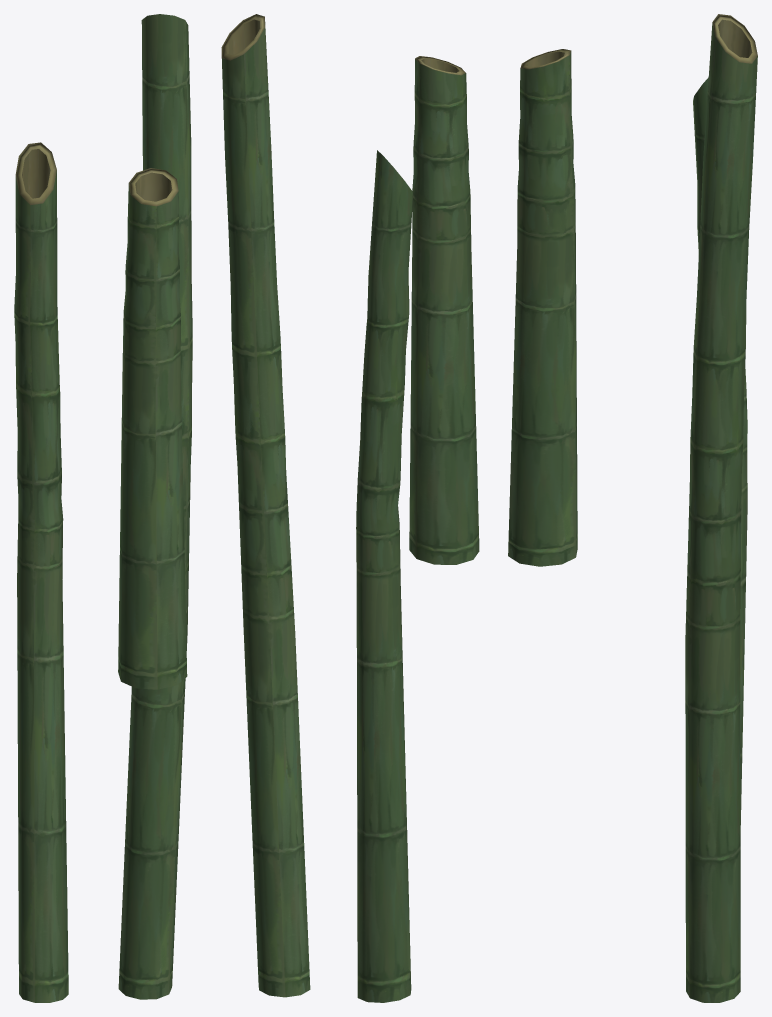
File: SM_EastLands_Bamboo_Group_01_Stump.fbx
3 renders of one model, left to right at view 1: azimuth 30°, elevation 25°; view 2: azimuth 150°, elevation 25°; view 3: azimuth 270°, elevation 25°, orthographic.
Parts seen in each view (by area): view 1: SM_EastLands_Bamboo_Group_01_Stump_LOD0; view 2: SM_EastLands_Bamboo_Group_01_Stump_LOD0; view 3: SM_EastLands_Bamboo_Group_01_Stump_LOD0.
Part boxes in pixels (<box>): SM_EastLands_Bamboo_Group_01_Stump_LOD0: <box>14,14,192,1002</box>; SM_EastLands_Bamboo_Group_01_Stump_LOD0: <box>221,14,479,1002</box>; SM_EastLands_Bamboo_Group_01_Stump_LOD0: <box>508,14,757,1002</box>.
Bounding box in the file's own units: 119 × 621 × 142.
